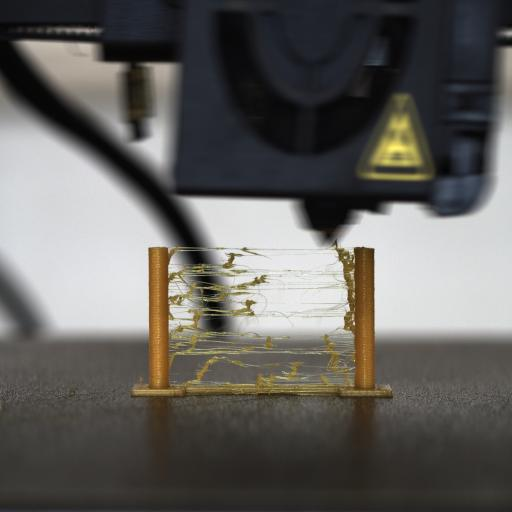stringing: (167, 244, 356, 386)
